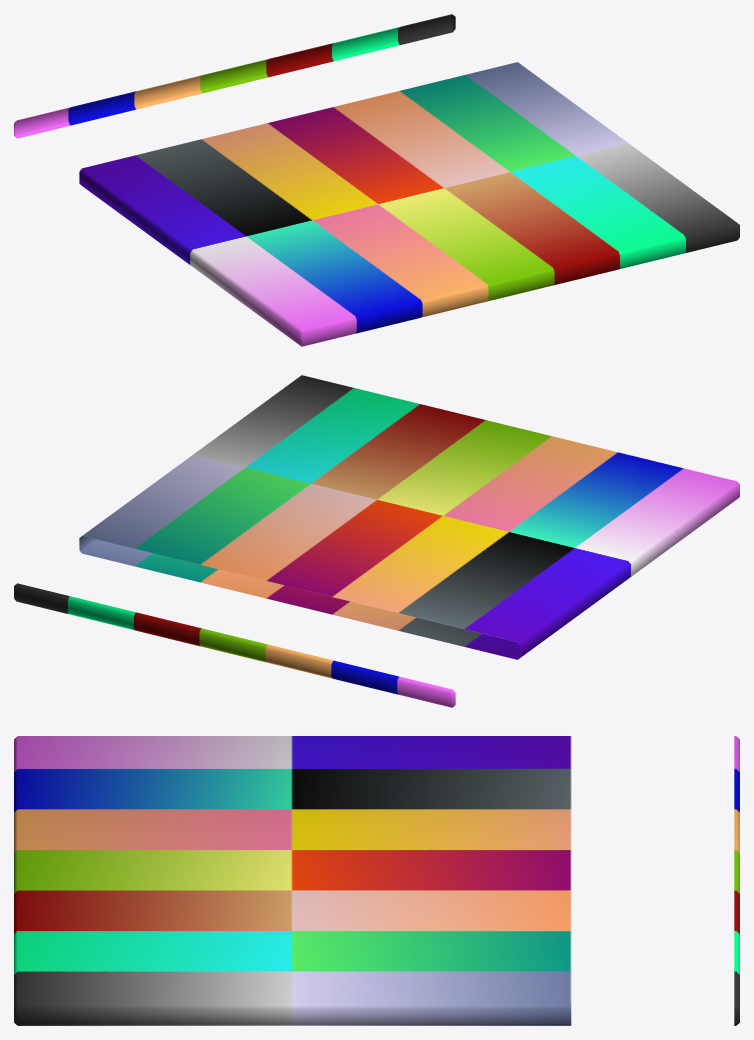
The model's file is Panneau2.fbx.
3 views of the same model, one above another, from view 1: azimuth 30°, elevation 25°; view 2: azimuth 150°, elevation 25°; view 3: azimuth 270°, elevation 25° (orthographic). The views are drawn at different scales.
Parts seen in each view (by area): view 1: Cube.022; view 2: Cube.022; view 3: Cube.022.
Part boxes in pixels (box(x1,y1,x2,y2)): Cube.022: box(14, 14, 739, 346); Cube.022: box(14, 375, 739, 707); Cube.022: box(14, 736, 739, 1025).
Bounding box in the file's own units: 1699 × 65.07 × 1924.
